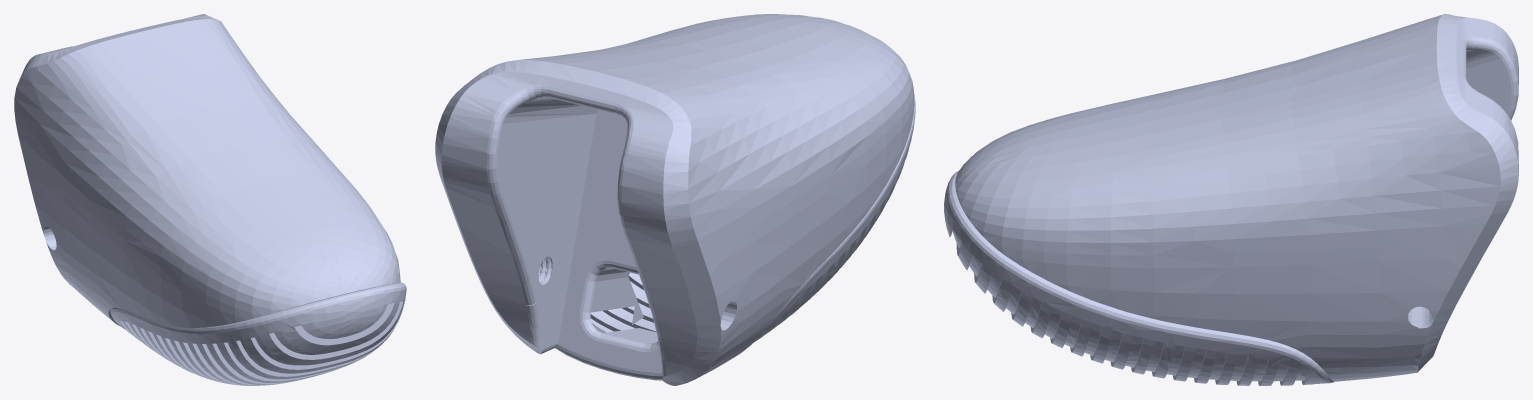
The model's file is rh_thumb_distal_vis.obj.
The picture shows the model from 3 angles, left to right: view 1: azimuth 30°, elevation 25°; view 2: azimuth 150°, elevation 25°; view 3: azimuth 270°, elevation 25°; orthographic projection. The views are drawn at different scales.
Visible parts, largest first — view 1: rh_thumb_distal; view 2: rh_thumb_distal; view 3: rh_thumb_distal.
Boxes of the visible parts, x1,y1,x2,y2 form: rh_thumb_distal: (14, 14, 406, 385); rh_thumb_distal: (435, 14, 915, 385); rh_thumb_distal: (944, 14, 1518, 385).
Bounding box in the file's own units: 0.019 × 0.023 × 0.0378.
1 material, 1 textured.
